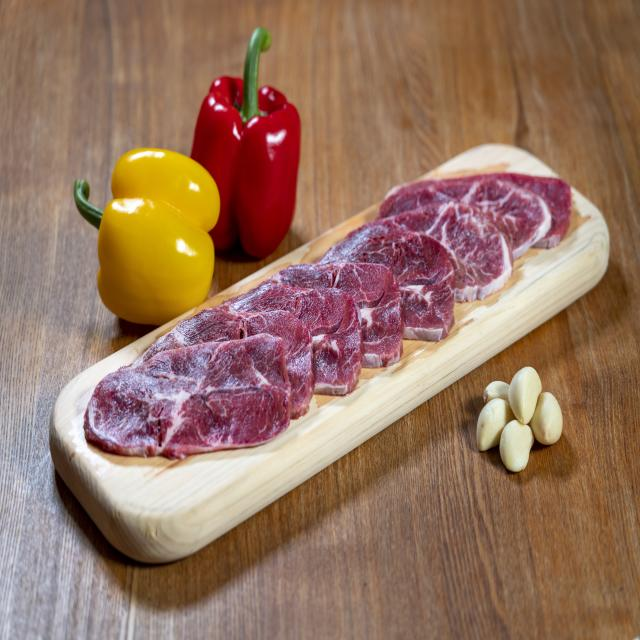beef: (189, 327, 304, 411), (321, 249, 425, 326)
